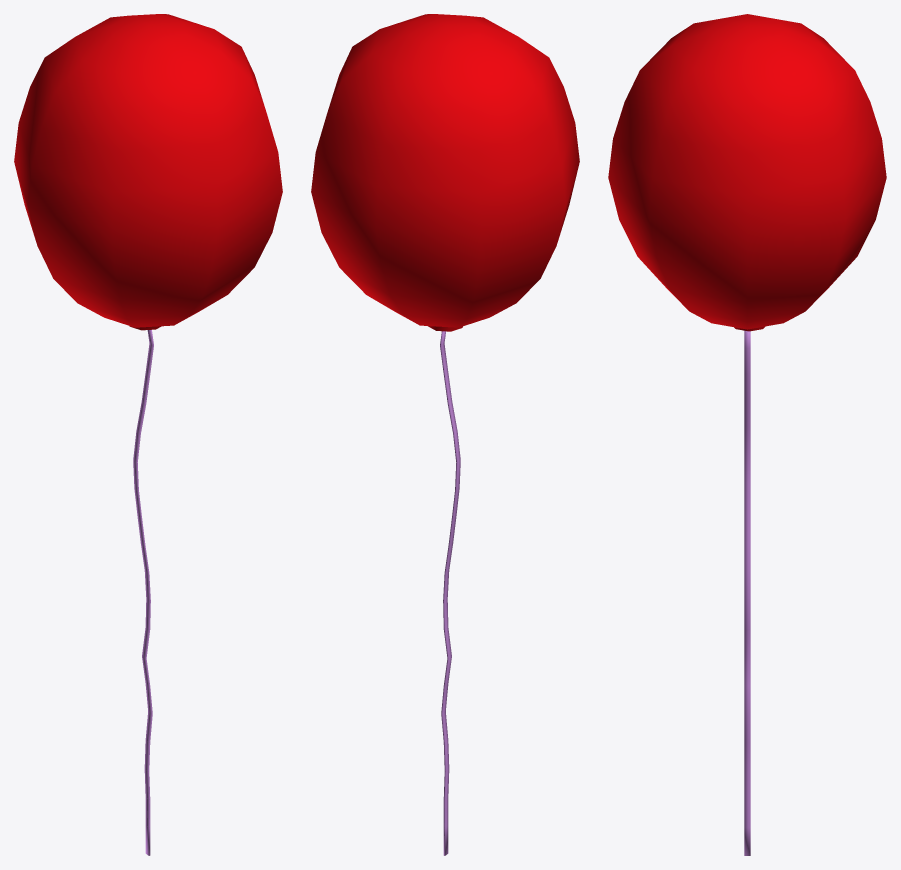
The model's file is balloon1.fbx.
3 renders of one model, left to right at view 1: azimuth 30°, elevation 25°; view 2: azimuth 150°, elevation 25°; view 3: azimuth 270°, elevation 25°, orthographic.
Parts seen in each view (by area): view 1: balloon1; view 2: balloon1; view 3: balloon1.
Part boxes in pixels (box(x1,y1,x2,y2)): balloon1: box(14, 14, 282, 855); balloon1: box(311, 14, 579, 855); balloon1: box(608, 14, 886, 855).
Size of the model in its own units: 183 by 602 by 183.
